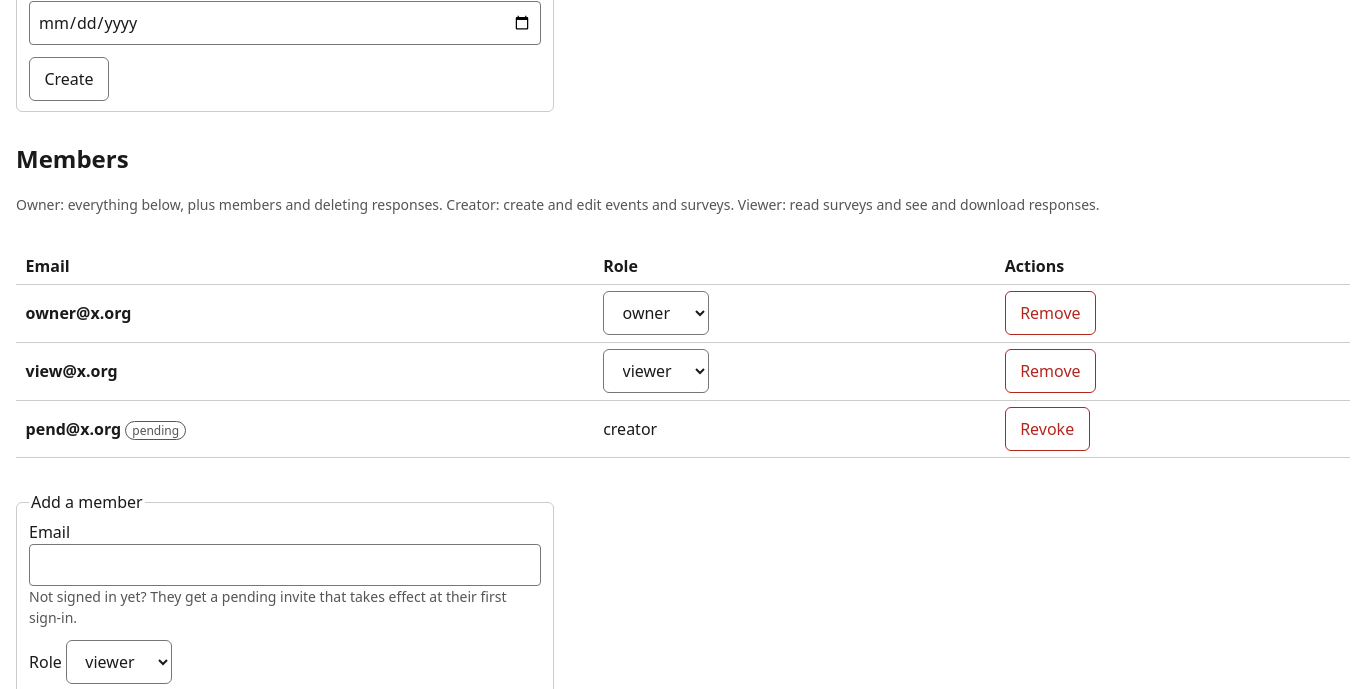
Test: group page › lets an owner change roles and explains a last-owner 409
(page scrolled)
Check: the column headings read "Email", "Role", "Actions", in this order, box [16,247,594,285]; [594,247,995,285]; [995,247,1350,285]
Select "creator" in the dropdown named "Role of view@x.org" at (656, 371), box [603,349,709,393]
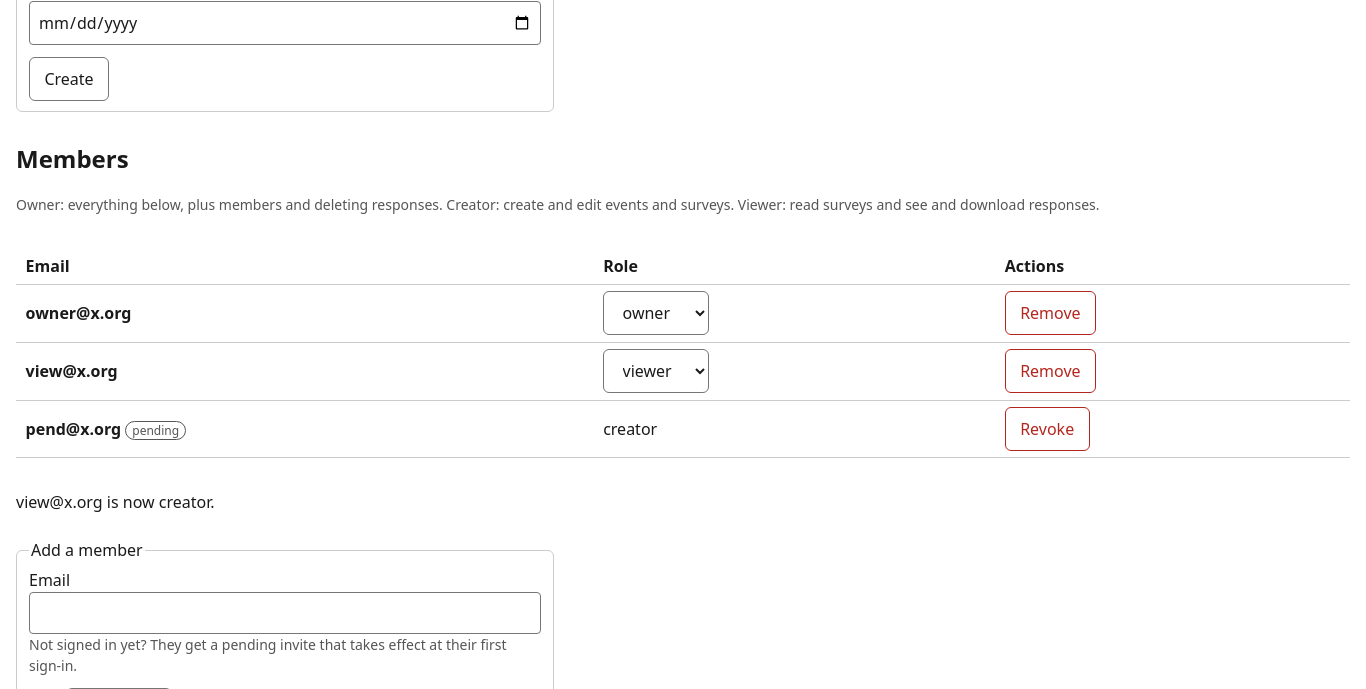
Check: the message reads "view@x.org is now creator.", box [16,491,214,513]
Select "viewer" in the dropdown named "Role of owner@x.org" at (656, 314), box [603,292,709,336]
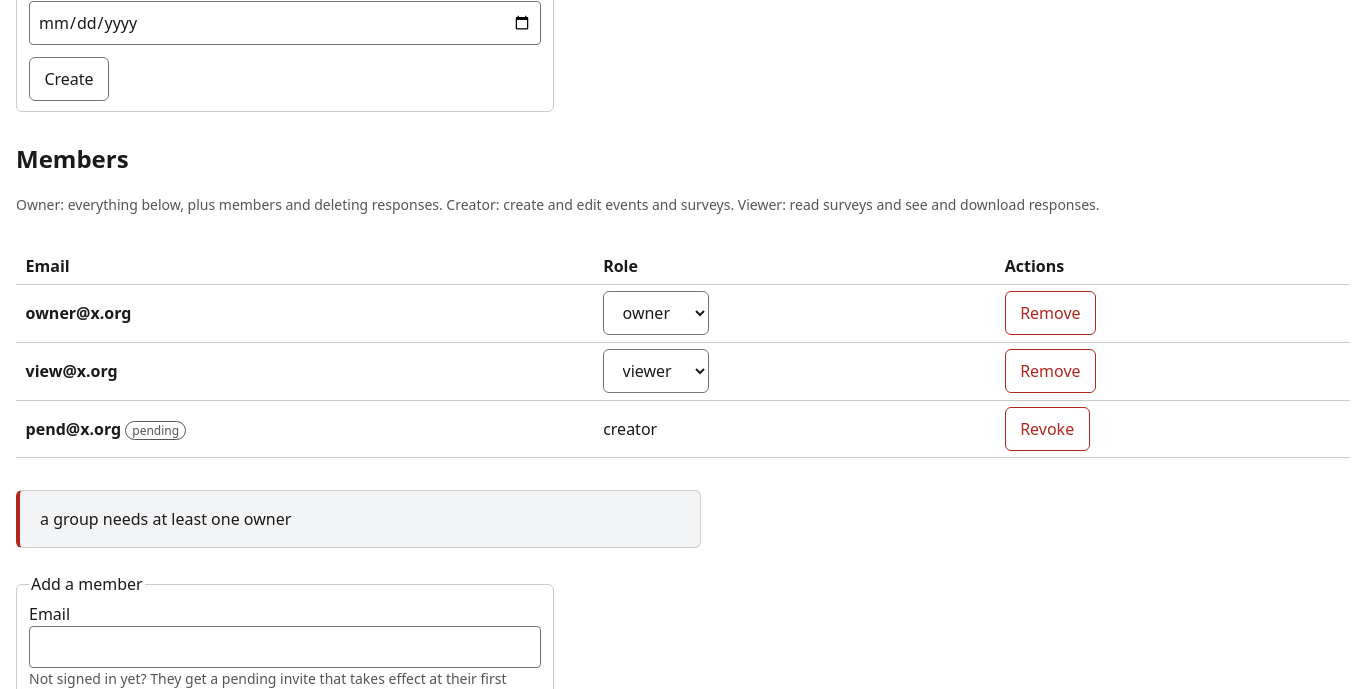
Check: the text "a group needs at least one owner" is shown, box [16,490,701,548]
